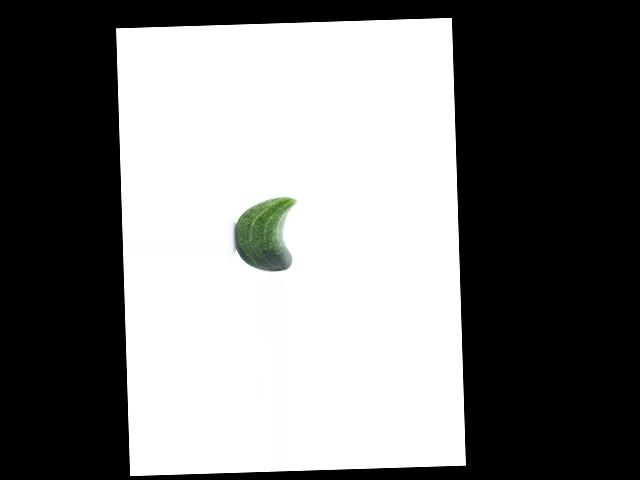cucumber: (233, 195, 298, 272)
